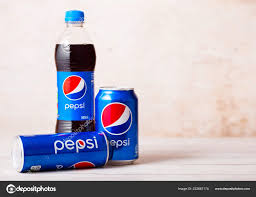bottle: (47, 8, 95, 129)
pepsi: (56, 74, 94, 119)
plastic: (48, 7, 96, 128)
